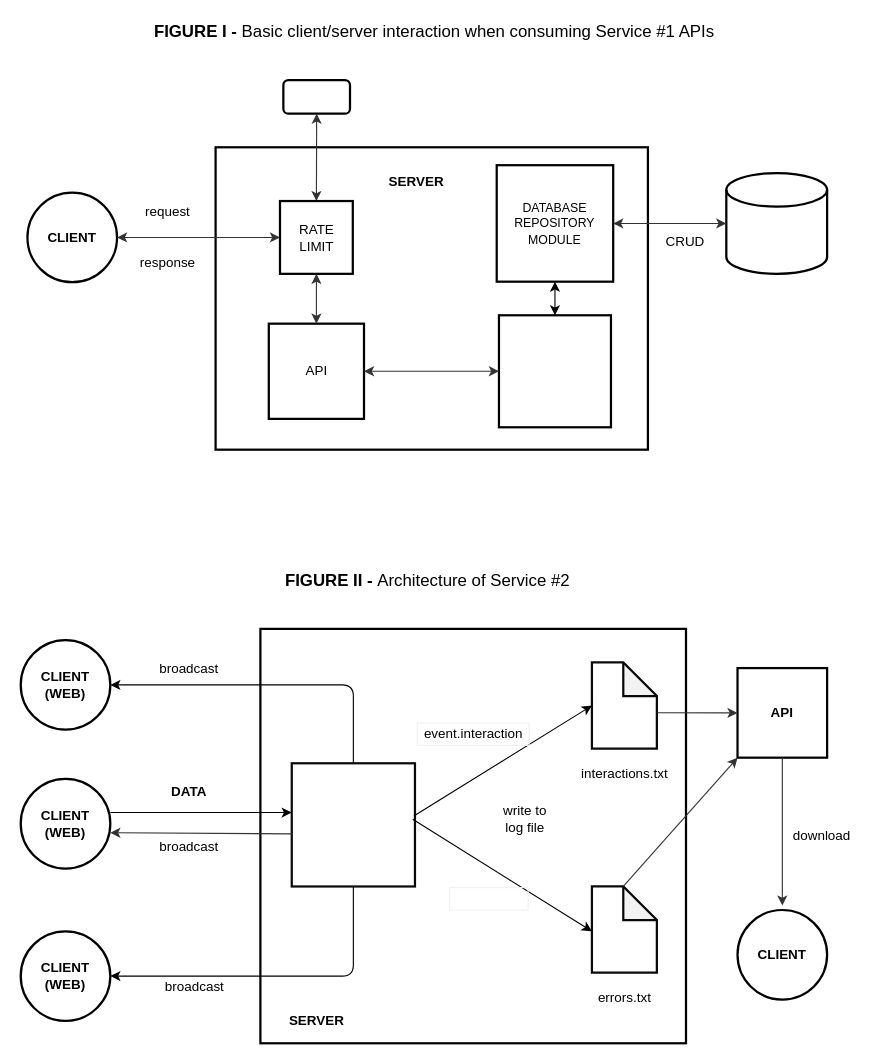
This 879x1063 diagram has some shape labels left out. The shapes that lost their labels are listed below. From the top down, each one's centre as x and y in pixels, then its label:
the point at 316,96: REDIS
the point at 776,222: DATABASE
the point at 554,371: CONTROLLER
the point at 353,824: SOCKET SERVER
the point at 488,898: event.error
